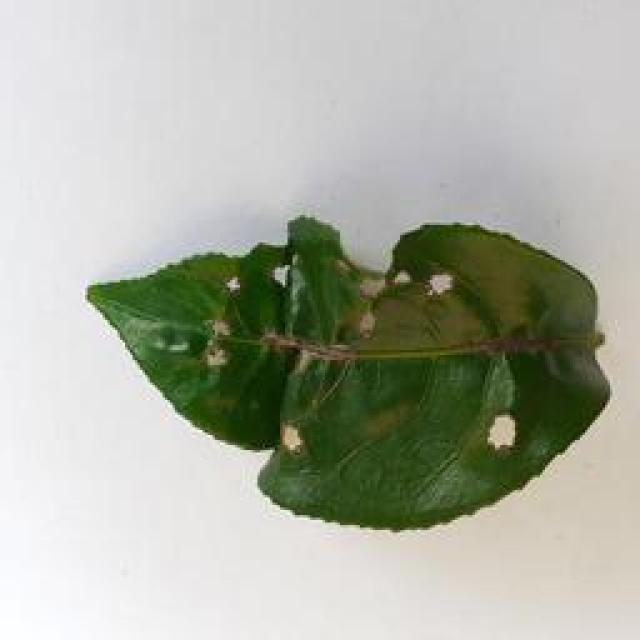Helopeltis: (73, 210, 640, 540)
